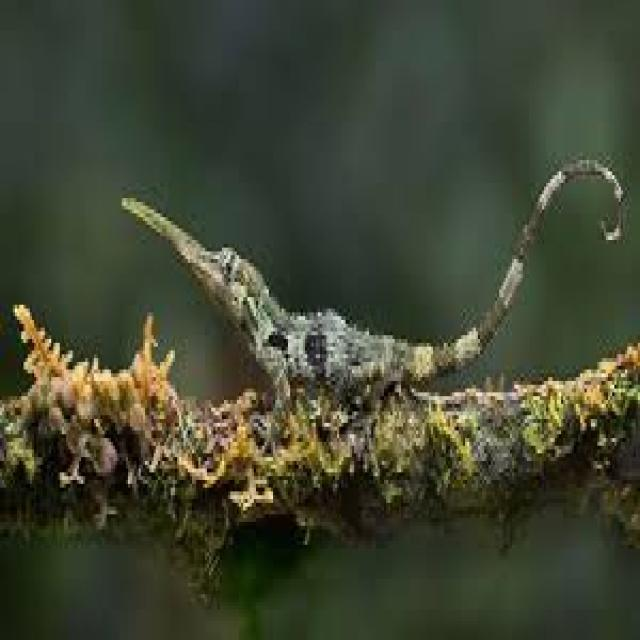Lizard: (121, 156, 627, 386)
